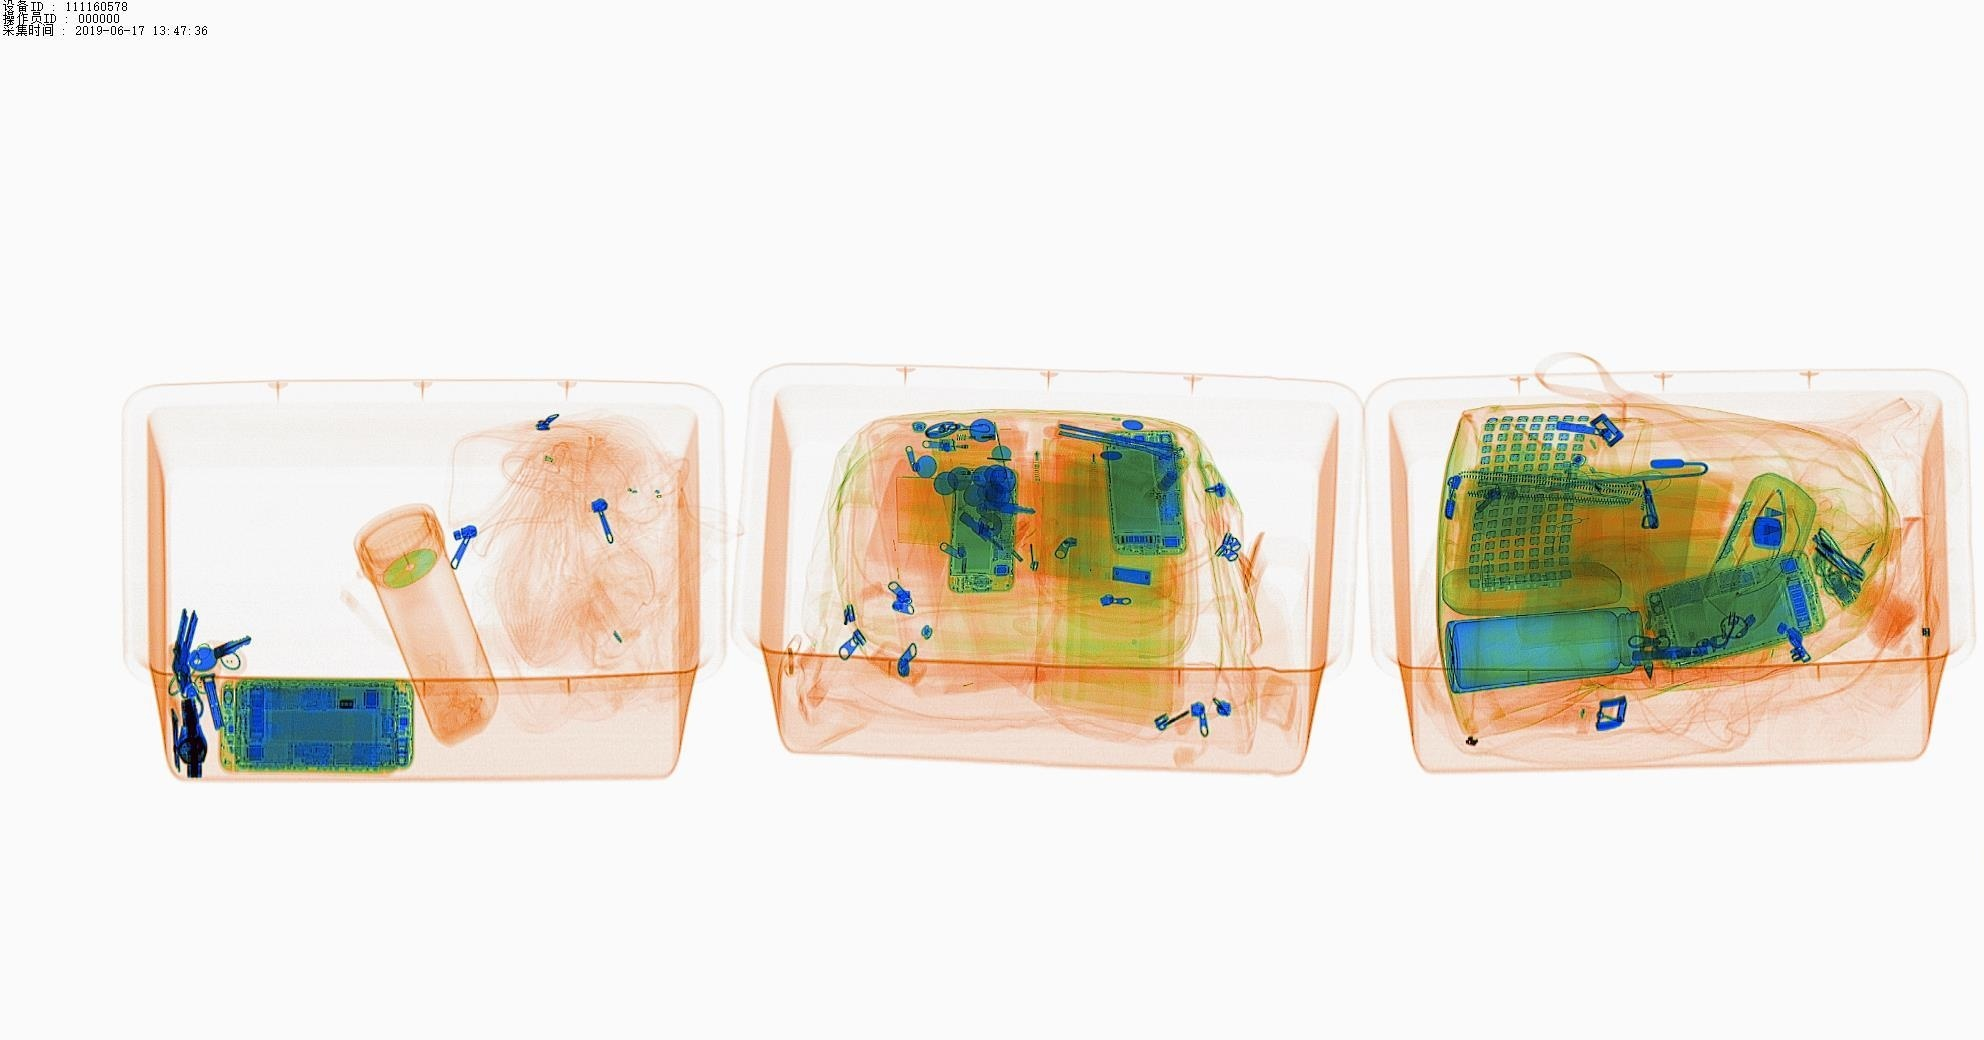NonmetallicFire: (926, 412, 1038, 464)
